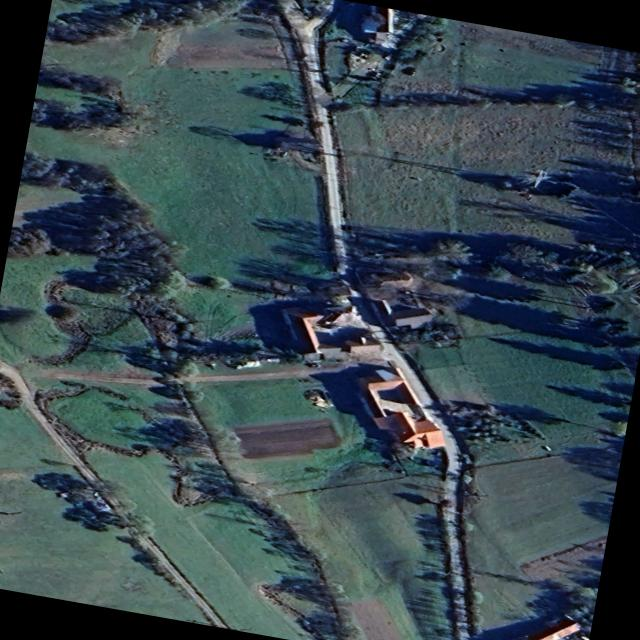bare-soil: (233, 419, 342, 458), (526, 531, 607, 582), (352, 597, 402, 640)
building: (274, 0, 470, 640), (0, 353, 391, 630), (350, 237, 482, 340), (331, 5, 420, 101), (284, 281, 380, 357), (351, 370, 439, 450), (505, 596, 589, 640)
grass: (329, 104, 640, 640), (28, 0, 335, 368), (0, 374, 208, 625), (0, 190, 158, 371), (339, 15, 640, 99)
tree: (19, 150, 275, 370), (331, 47, 640, 213), (147, 386, 348, 640), (49, 0, 242, 47), (240, 218, 333, 304), (30, 470, 125, 532), (30, 68, 125, 129), (113, 531, 186, 598), (220, 0, 296, 45), (239, 77, 302, 109)
